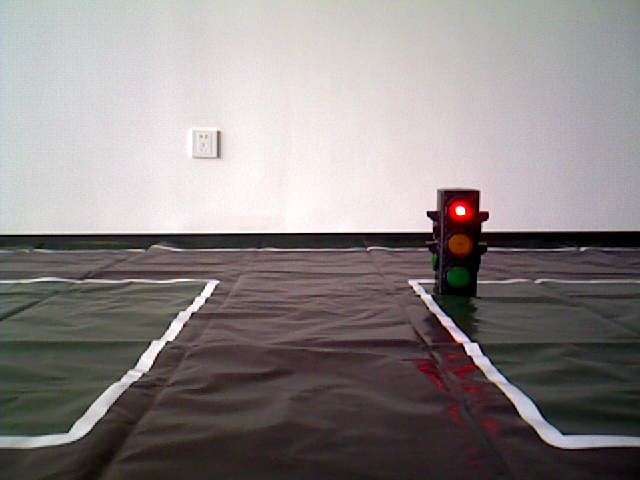red: (436, 193, 479, 289)
